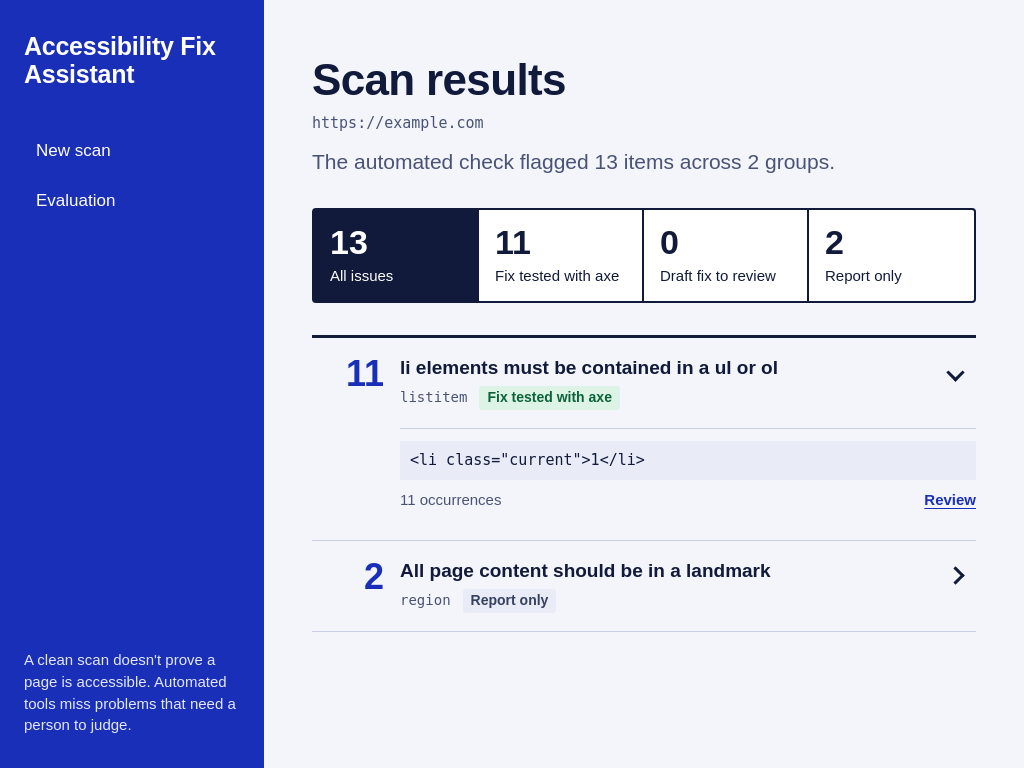
results › sorts tested fixes first and filters by level
Expected: the text "The automated check flagged 13 items across 2 groups." is shown, [312,150,835,173]
Click the button "2 Report only" at x=892, y=256, box [809,210,974,301]
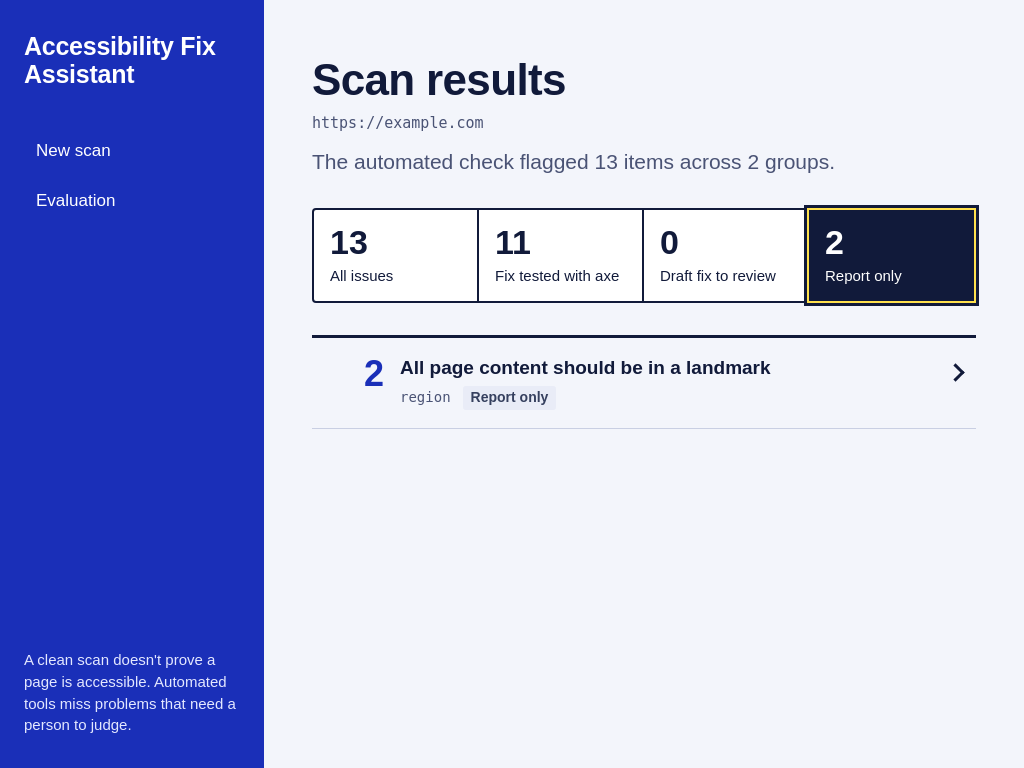
Expected: the heading "listitem" is gone
